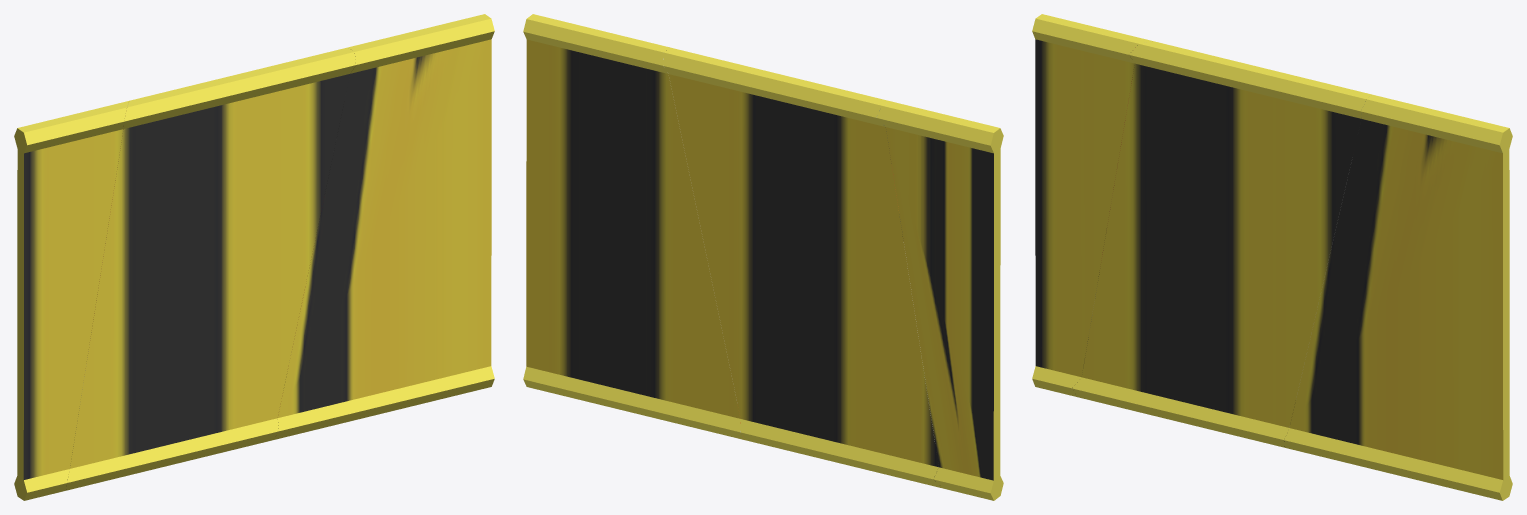
The model's file is Bien_DEST.fbx.
3 views of the same model, side by side, from view 1: azimuth 30°, elevation 25°; view 2: azimuth 150°, elevation 25°; view 3: azimuth 330°, elevation 25° (orthographic).
Visible parts, largest first — view 1: bien1_cell.002, bien1_cell.001, bien1_cell; view 2: bien1_cell.002, bien1_cell.001, bien1_cell; view 3: bien1_cell.002, bien1_cell.001, bien1_cell.
Boxes of the visible parts, x1,y1,x2,y2 form: bien1_cell.002: [66, 47, 355, 490]; bien1_cell.001: [274, 14, 494, 439]; bien1_cell: [14, 101, 128, 500]; bien1_cell.002: [663, 47, 942, 488]; bien1_cell.001: [523, 14, 744, 439]; bien1_cell: [876, 103, 1003, 500]; bien1_cell.002: [1072, 41, 1371, 447]; bien1_cell.001: [1284, 94, 1512, 500]; bien1_cell: [1032, 14, 1152, 396].
Bounding box in the file's own units: 1433 × 1079 × 69.55.
